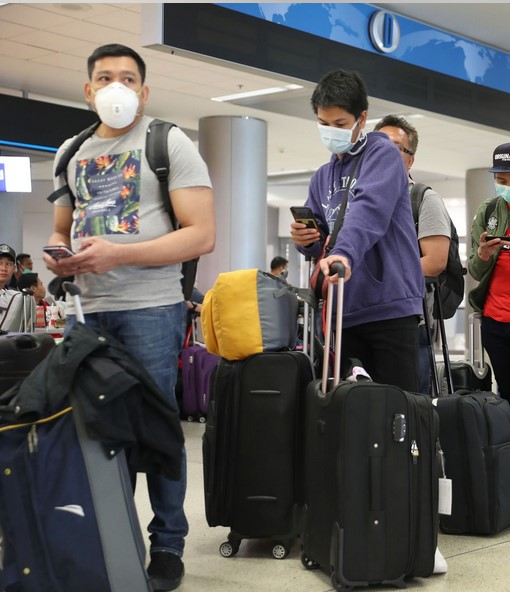face_with_mask: (85, 45, 148, 130), (310, 71, 368, 155), (487, 144, 509, 206)
